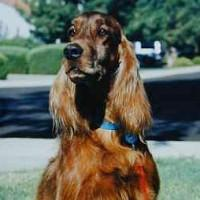Irish_setter: (35, 10, 164, 199)
